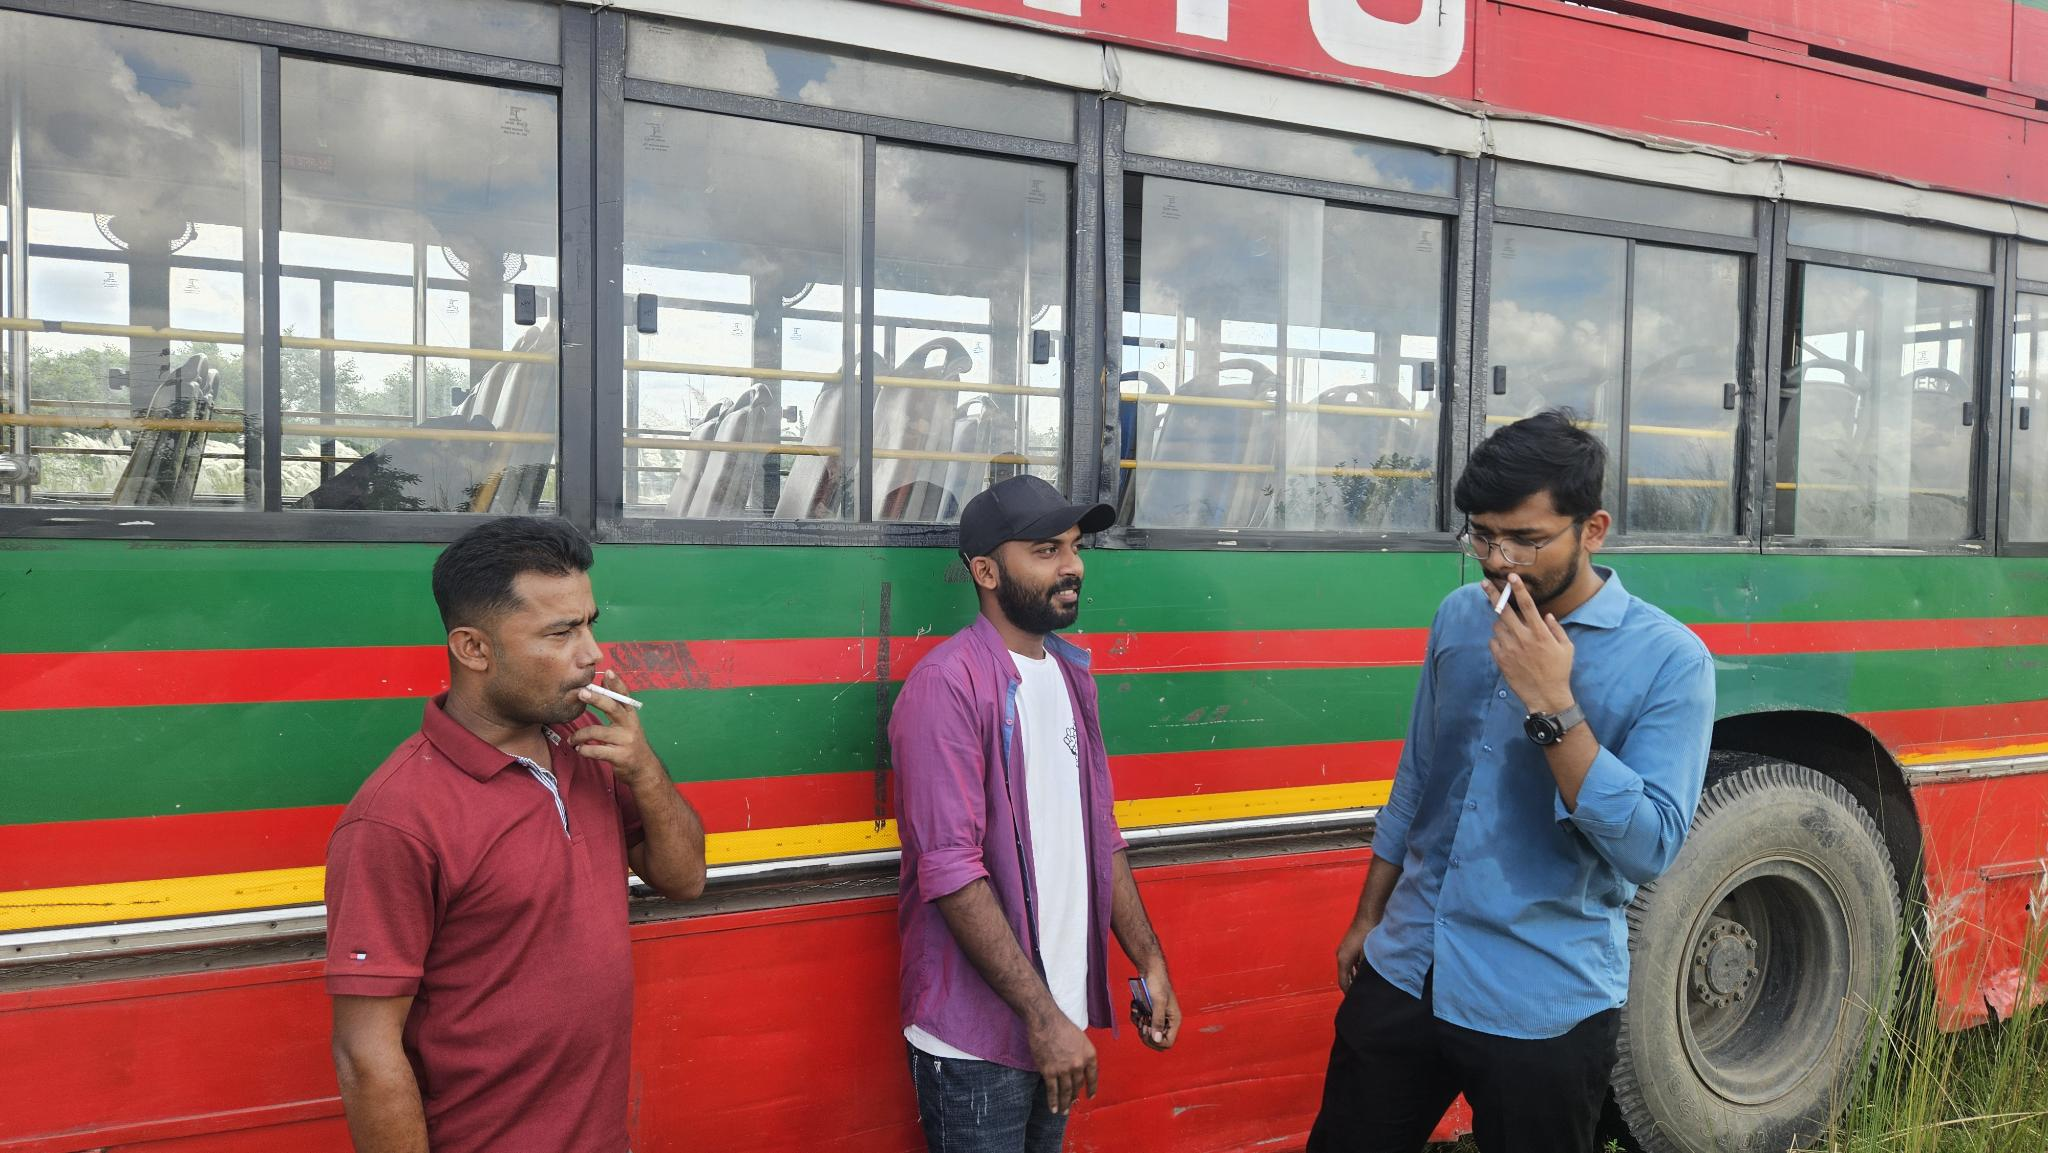cigarette: (584, 681, 646, 711), (1492, 579, 1513, 619)
nonSmoker: (886, 477, 1180, 1153)
smoker: (1305, 413, 1716, 1153), (324, 515, 706, 1153)
